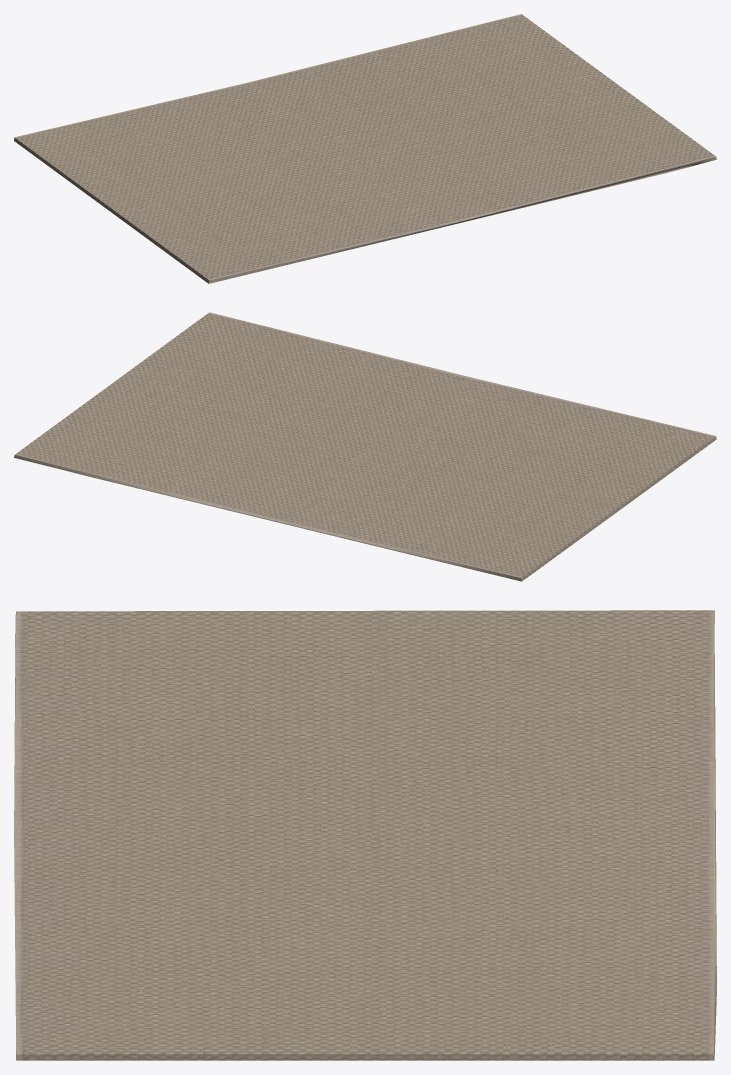
File: 17 - MORUM Rug flatwoven, inoutdoor - beige 120x180 cm.glb
The picture shows the model from 3 angles, top to bottom: view 1: azimuth 30°, elevation 25°; view 2: azimuth 150°, elevation 25°; view 3: azimuth 270°, elevation 25°; orthographic projection. The views are drawn at different scales.
Visible parts, largest first — view 1: ASY_ART_10624187_S01_NV01; view 2: ASY_ART_10624187_S01_NV01; view 3: ASY_ART_10624187_S01_NV01.
Part boxes in pixels (x1,y1,x2,y2): ASY_ART_10624187_S01_NV01: (14,14,716,283); ASY_ART_10624187_S01_NV01: (14,312,716,581); ASY_ART_10624187_S01_NV01: (14,610,716,1060).
Bounding box in the file's own units: 1.8 × 0.0155 × 1.2.
Materials: 1 (1 with a texture image).
